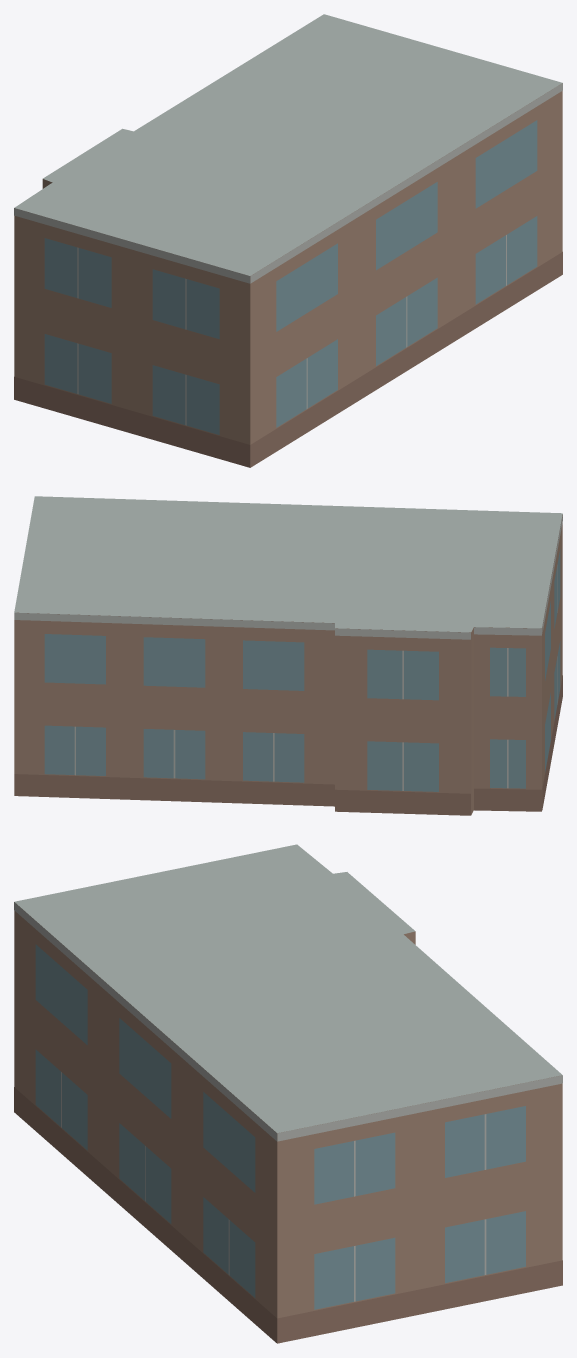
The model's file is survey-upis-32930672.glb.
3 views of the same model, one above another, from view 1: azimuth 30°, elevation 25°; view 2: azimuth 150°, elevation 25°; view 3: azimuth 270°, elevation 25° (orthographic). The views are drawn at different scales.
Parts seen in each view (by area): view 1: survey-upis-32930672.tmp; view 2: survey-upis-32930672.tmp; view 3: survey-upis-32930672.tmp.
Part boxes in pixels (x1,y1,x2,y2): survey-upis-32930672.tmp: (14, 14, 562, 467); survey-upis-32930672.tmp: (14, 496, 562, 815); survey-upis-32930672.tmp: (14, 844, 562, 1343).
Bounding box in the file's own units: 17.98 × 6.1 × 14.43.
